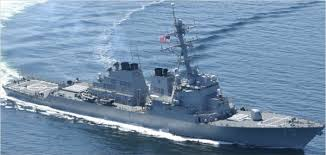tau_muctieu: (13, 52, 320, 151)
